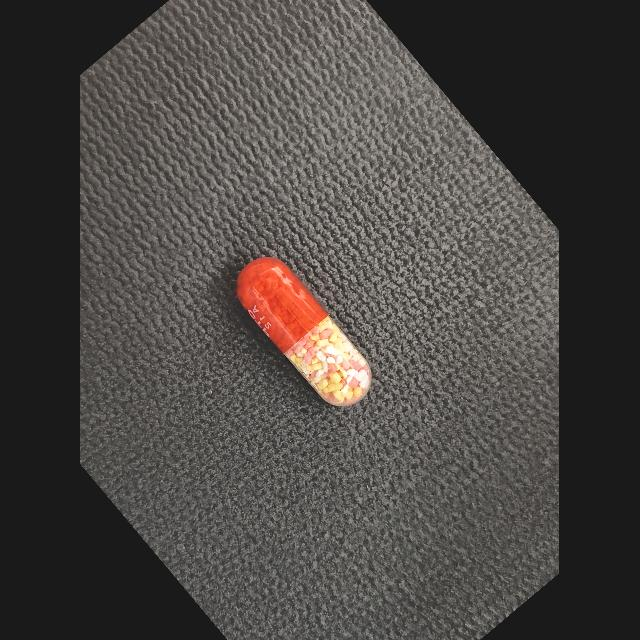Intact Capsule: (237, 257, 373, 406)
